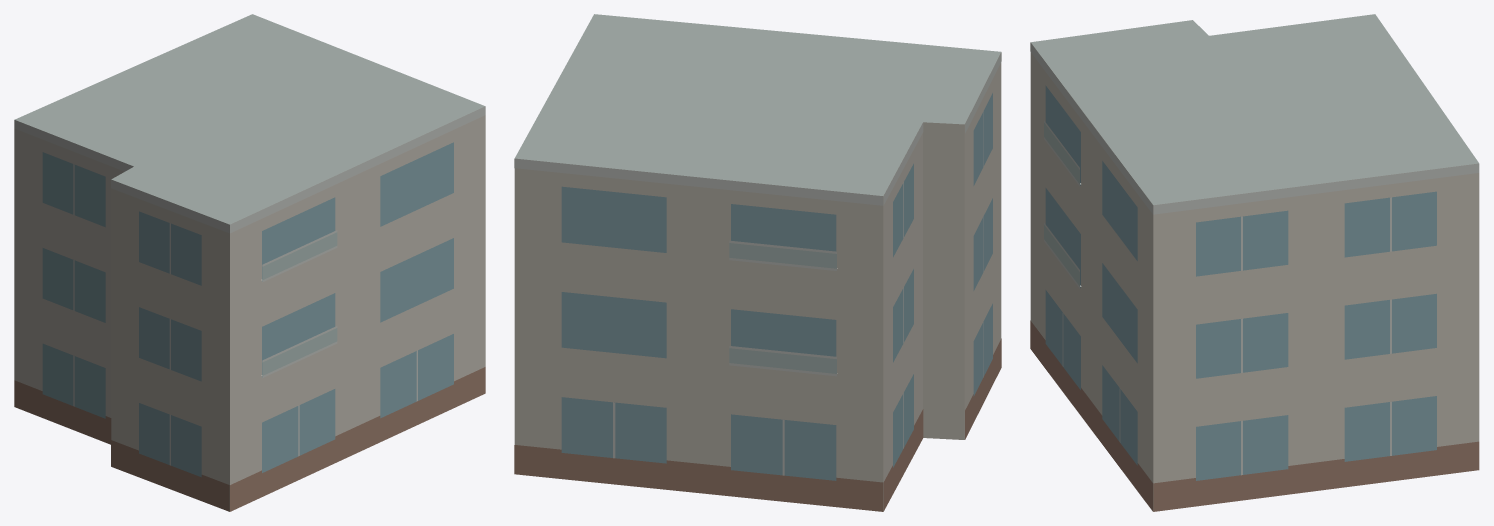
File: survey-upis-32509703.glb
The picture shows the model from 3 angles, left to right: view 1: azimuth 30°, elevation 25°; view 2: azimuth 150°, elevation 25°; view 3: azimuth 270°, elevation 25°; orthographic projection. The views are drawn at different scales.
Parts seen in each view (by area): view 1: survey-upis-32509703.tmp; view 2: survey-upis-32509703.tmp; view 3: survey-upis-32509703.tmp.
Boxes of the visible parts, x1,y1,x2,y2 form: survey-upis-32509703.tmp: [14, 14, 485, 511]; survey-upis-32509703.tmp: [514, 14, 1001, 511]; survey-upis-32509703.tmp: [1030, 14, 1479, 511].
Bounding box in the file's own units: 10.65 × 7.95 × 10.56.
